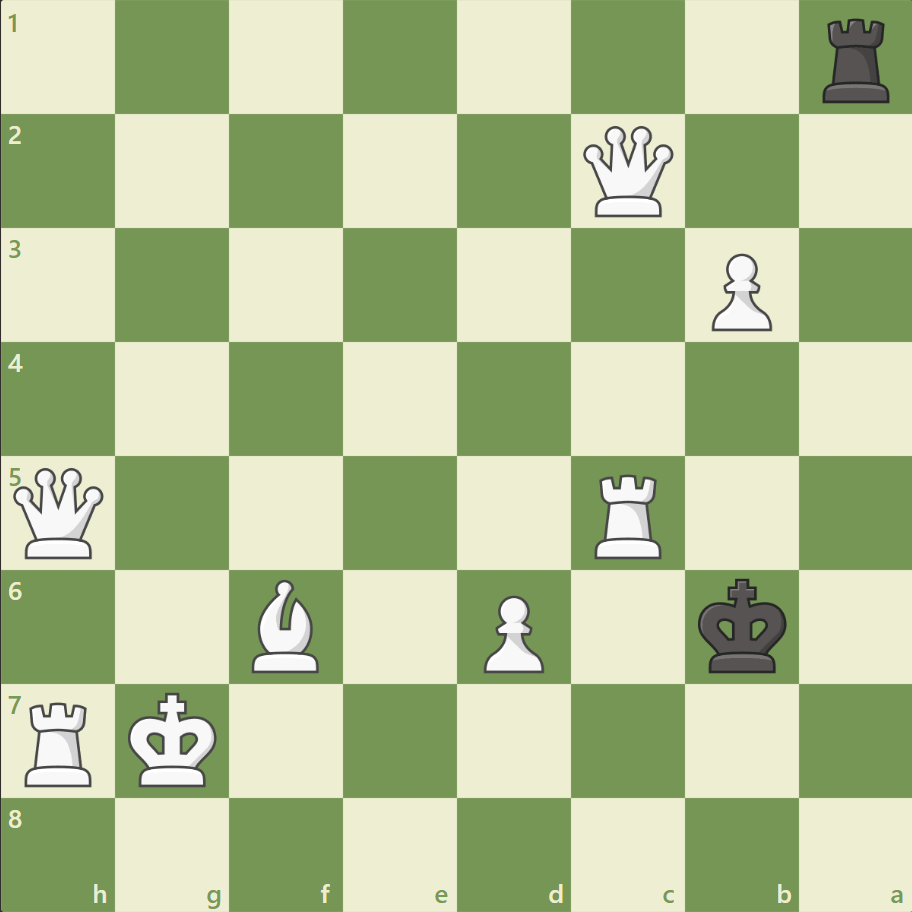B: (244, 574, 328, 676)
K: (124, 685, 224, 793)
P: (474, 586, 549, 677), (701, 246, 776, 337)
Q: (578, 122, 677, 222), (10, 463, 109, 562)
R: (19, 693, 102, 790), (587, 466, 670, 563)
k: (692, 571, 792, 679)
r: (814, 12, 897, 109)
